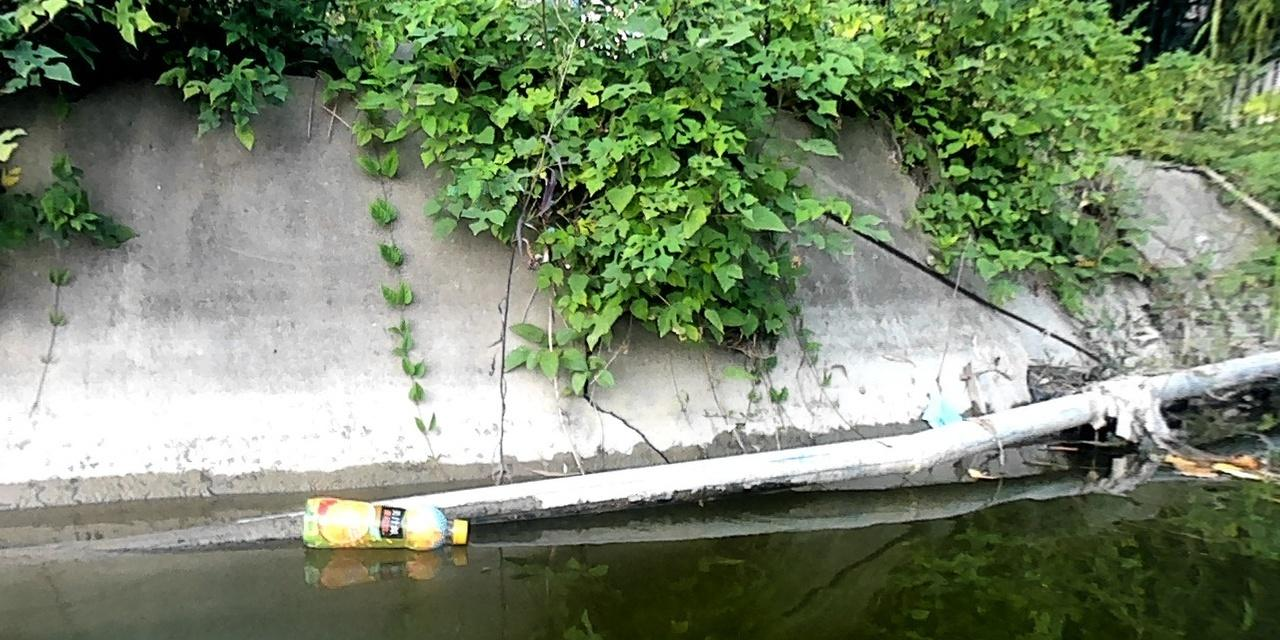bottle: (299, 495, 467, 554)
